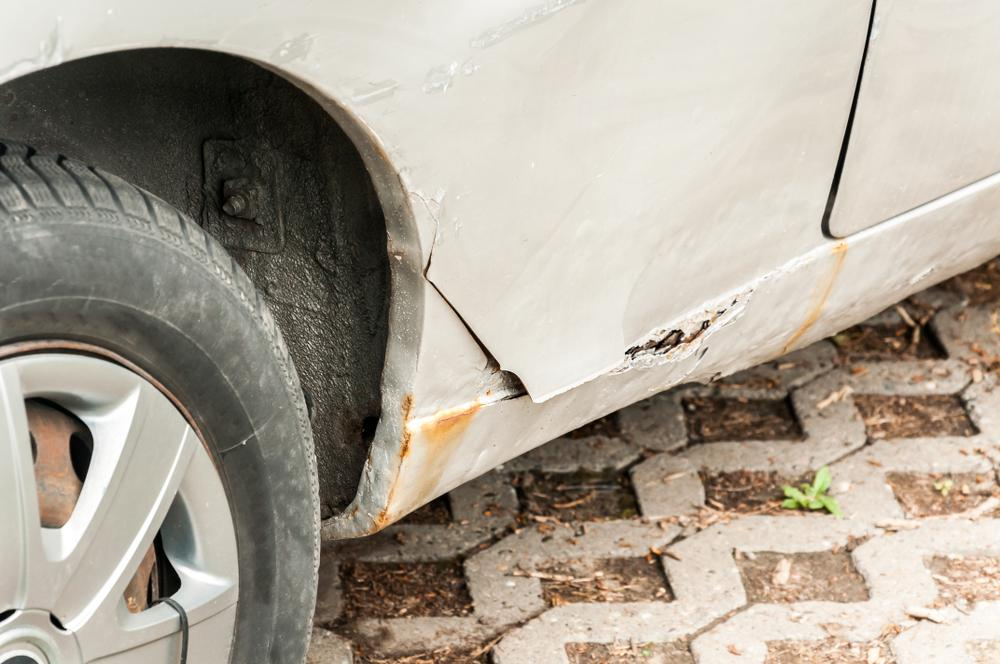crack: (412, 190, 748, 402)
